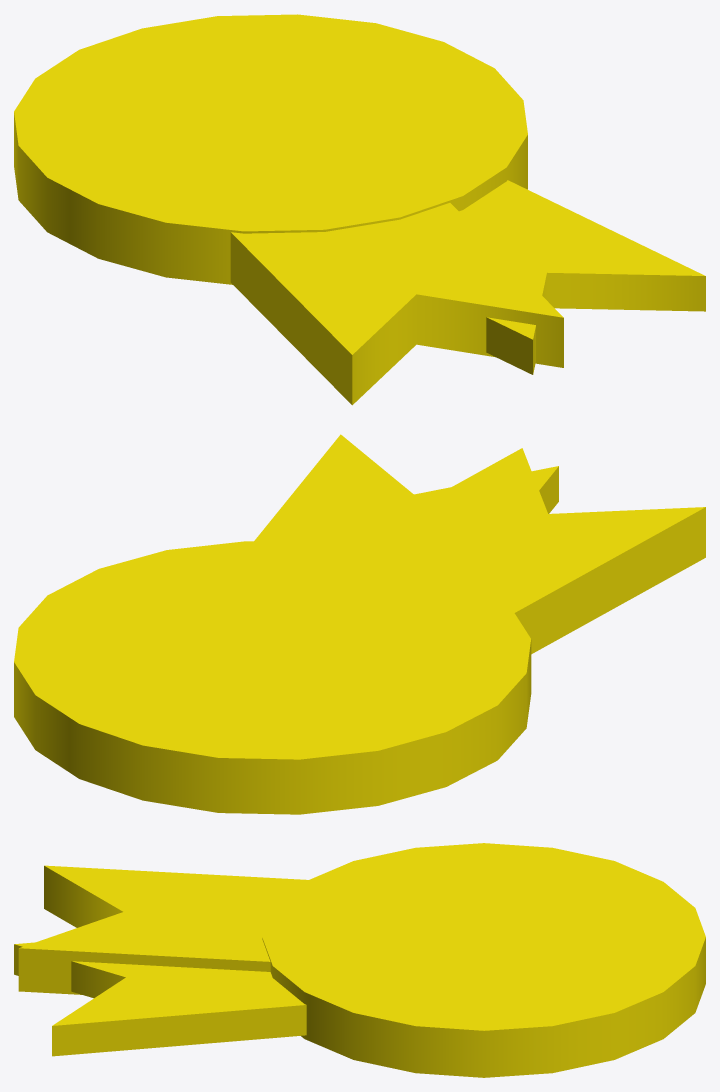
The model's file is HighScoreMedalModel.gltf.
The picture shows the model from 3 angles, top to bottom: view 1: azimuth 30°, elevation 25°; view 2: azimuth 150°, elevation 25°; view 3: azimuth 270°, elevation 25°; orthographic projection. The views are drawn at different scales.
Parts seen in each view (by area): view 1: HighScoreMedalModel; view 2: HighScoreMedalModel; view 3: HighScoreMedalModel.
Part boxes in pixels (bbox=[...]): HighScoreMedalModel: bbox=[14, 14, 705, 405]; HighScoreMedalModel: bbox=[14, 434, 705, 814]; HighScoreMedalModel: bbox=[14, 843, 705, 1077].
Bounding box in the file's own units: 0.8164 × 0.0954 × 1.27.
